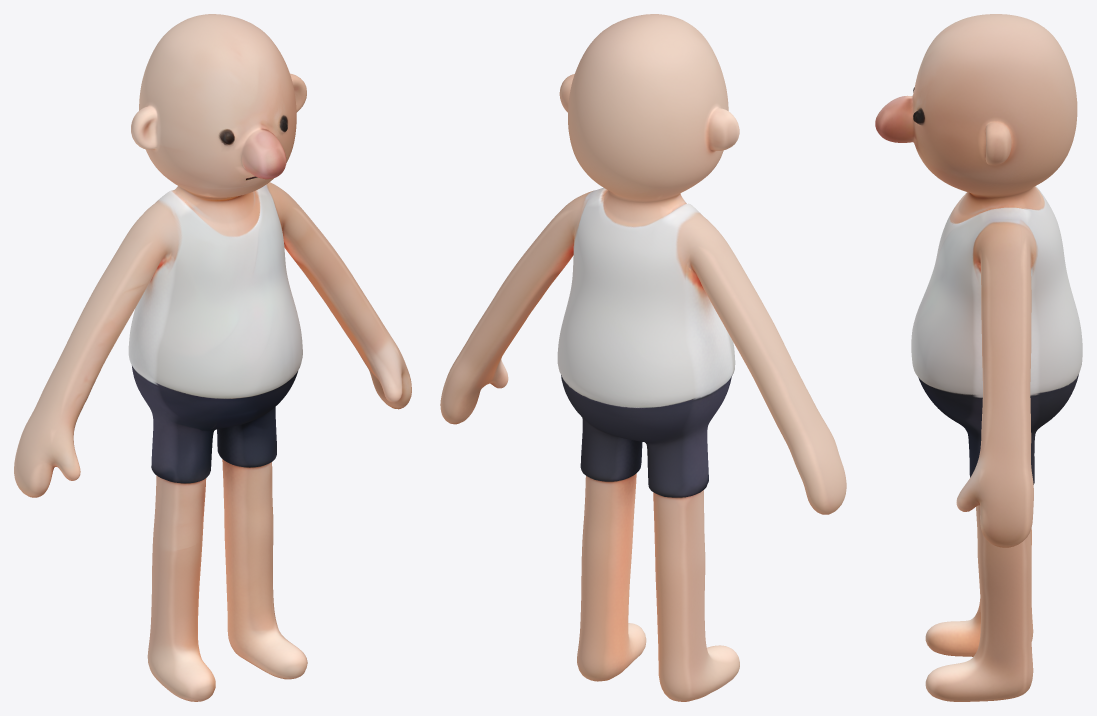
Rendered from base-rodin-v1.glb.
3 renders of one model, left to right at view 1: azimuth 30°, elevation 25°; view 2: azimuth 150°, elevation 25°; view 3: azimuth 270°, elevation 25°, orthographic. The views are drawn at different scales.
Visible parts, largest first — view 1: model; view 2: model; view 3: model.
Part boxes in pixels (box(x1,y1,x2,y2)): model: box(14, 14, 411, 701); model: box(440, 14, 846, 701); model: box(875, 14, 1082, 701).
Size of the model in its own units: 1.13 by 1.81 by 0.5202.
1 material, 1 textured.
